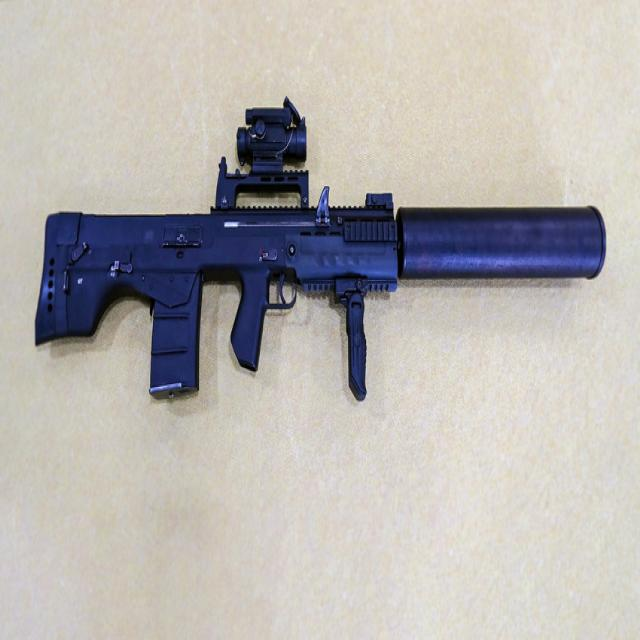Rifle: (34, 100, 608, 403)
